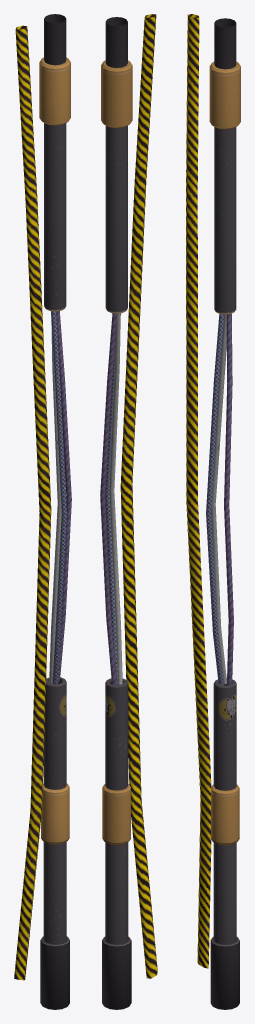
Rendered from LightPillar.glb.
3 renders of one model, left to right at view 1: azimuth 30°, elevation 25°; view 2: azimuth 210°, elevation 25°; view 3: azimuth 330°, elevation 25°, orthographic.
Visible parts, largest first — view 1: Cylinder.038; view 2: Cylinder.038; view 3: Cylinder.038.
Part boxes in pixels (left/top/right/bottom): Cylinder.038: left=14, top=14, right=71, bottom=1009; Cylinder.038: left=100, top=14, right=157, bottom=1009; Cylinder.038: left=186, top=14, right=240, bottom=1009.
Size of the model in its own units: 1.53 by 27.43 by 1.14.
2 materials, 2 textured.
